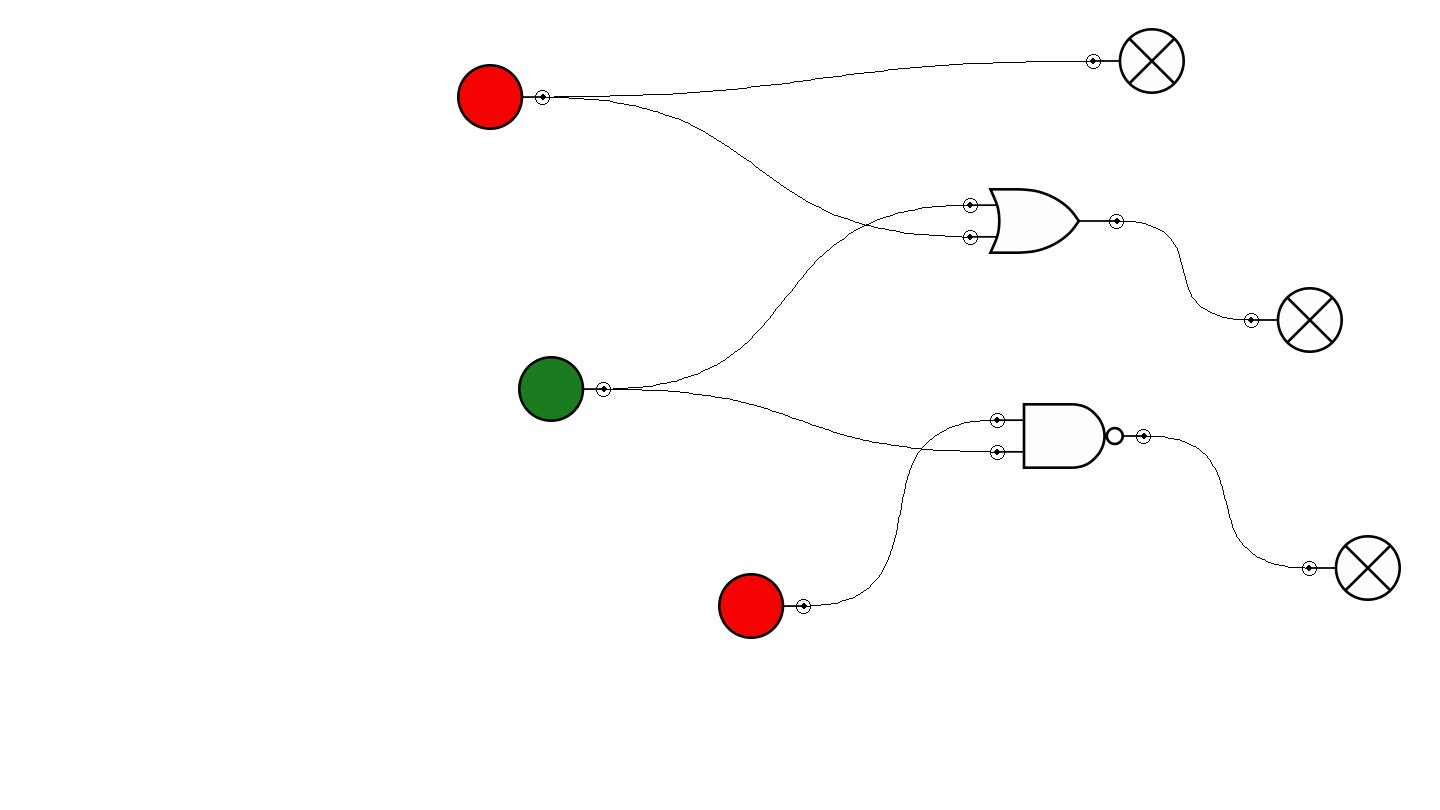bulb: (1244, 287, 1343, 353), (1302, 535, 1401, 601), (1086, 28, 1185, 94)
nand: (990, 403, 1151, 469)
or: (963, 188, 1124, 254)
switch_False: (718, 573, 811, 639), (457, 64, 550, 130)
switch_True: (518, 356, 611, 422)
